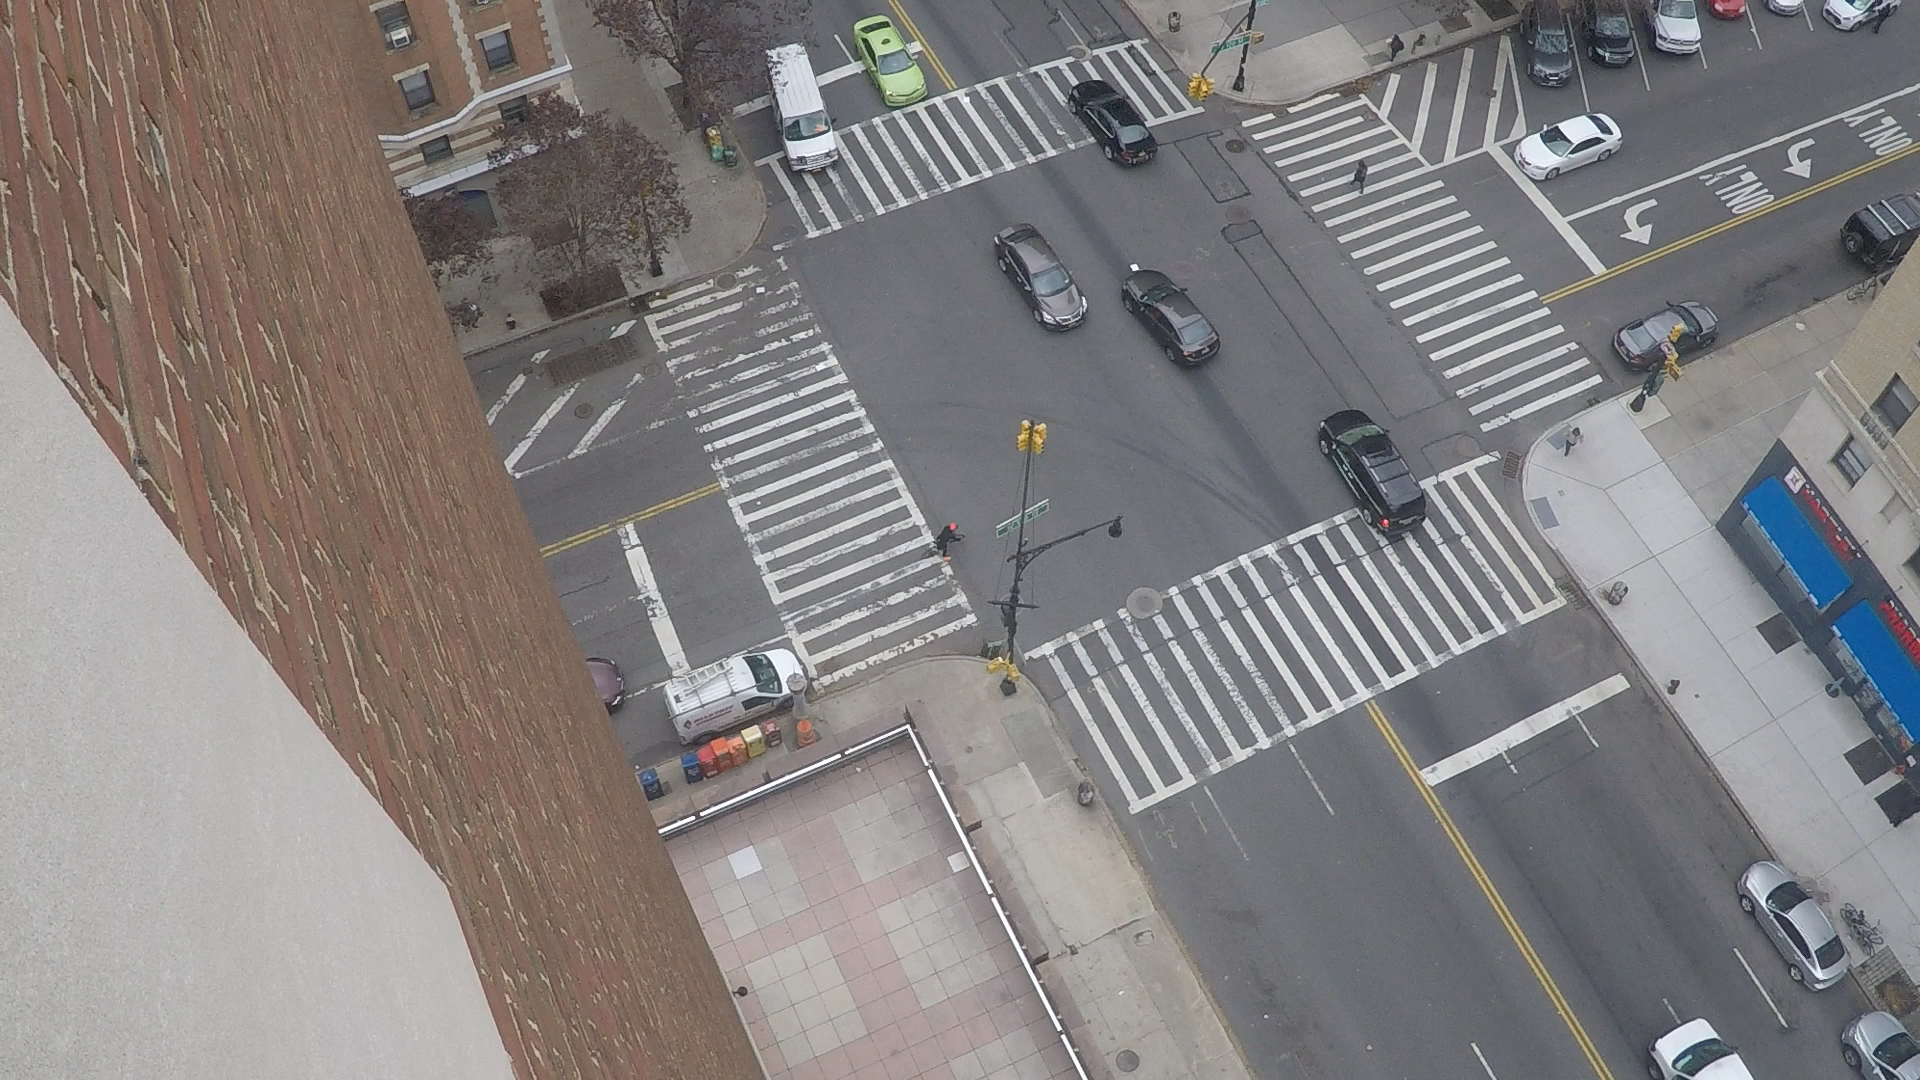Car: (804, 40, 825, 102), (901, 33, 913, 55), (1760, 0, 1764, 5), (1643, 0, 1644, 9), (1704, 0, 1705, 7)
